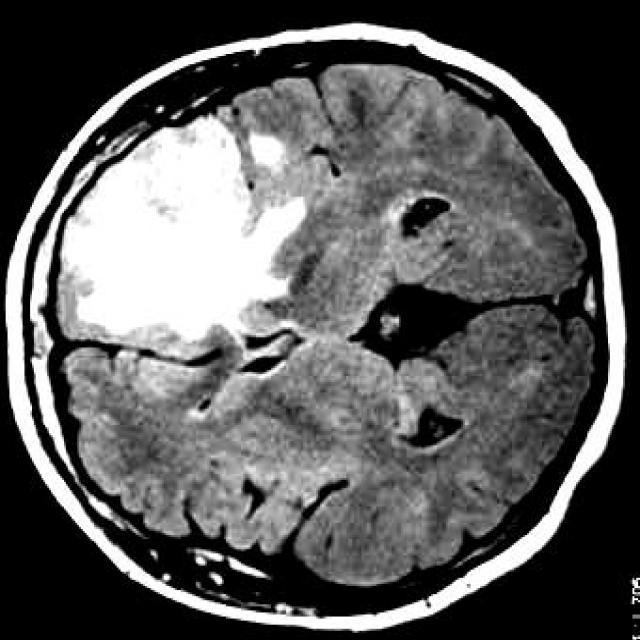tumor: (62, 114, 312, 340)
